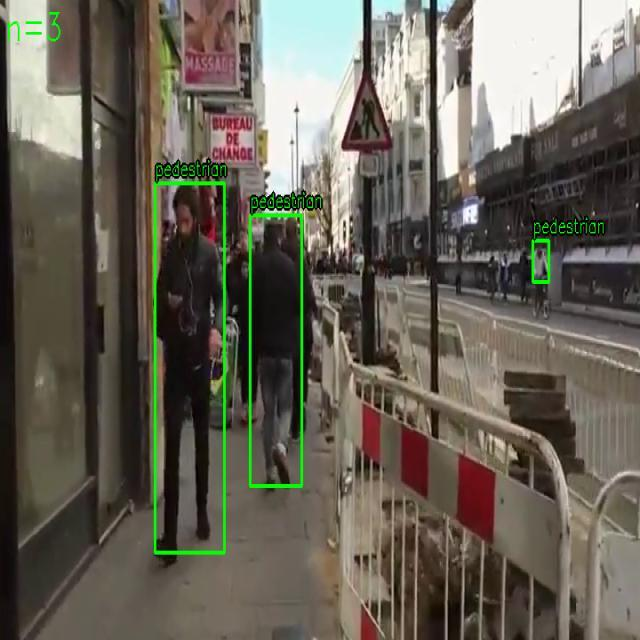with scooter: (155, 182, 225, 554), (250, 214, 302, 486), (532, 240, 550, 283)
